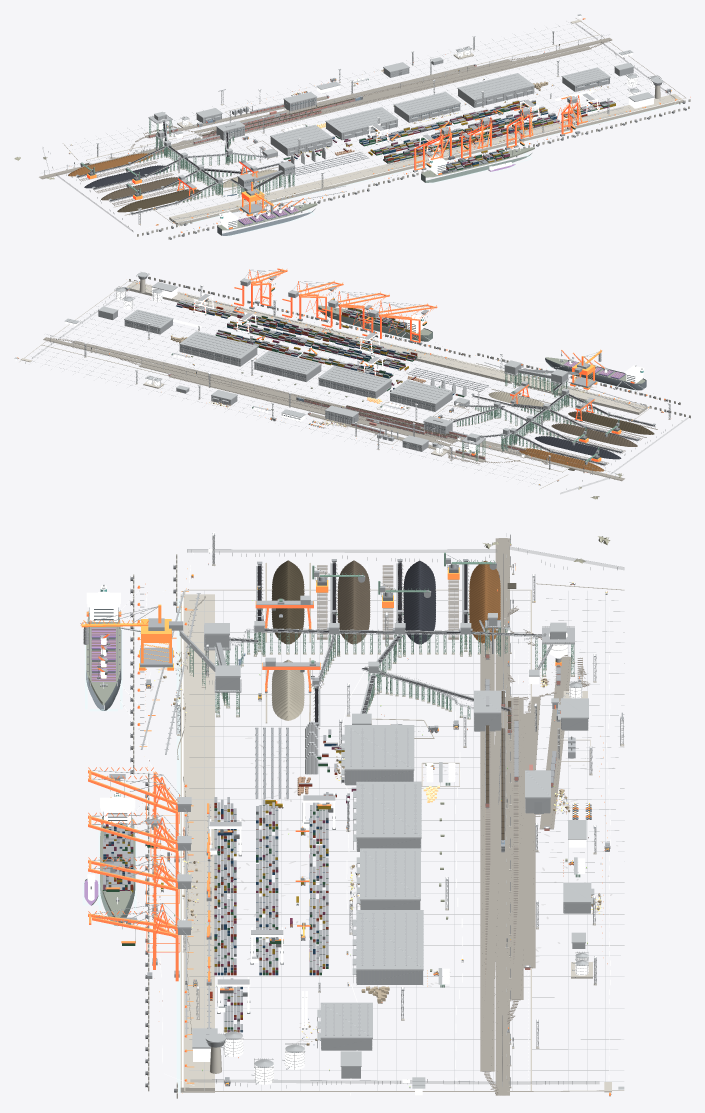
Rendered from portandrail.glb.
The picture shows the model from 3 angles, top to bottom: view 1: azimuth 30°, elevation 25°; view 2: azimuth 150°, elevation 25°; view 3: azimuth 270°, elevation 25°; orthographic projection. The views are drawn at different scales.
Parts seen in each view (by area): view 1: structure/roof, structure/concrete, galv/galv, structure/mat_8a8275_111, structure/steelD, structure/clad, fleet/hiVis, structure/seam, structure/white, structure/green, fleet/steelD, structure/mat_796f63_102 (+19 smaller); view 2: structure/roof, structure/concrete, galv/galv, structure/mat_8a8275_111, structure/steelD, structure/clad, fleet/hiVis, structure/seam, structure/green, structure/white, fleet/steelD, structure/textured_ffffff_23 (+22 smaller); view 3: structure/roof, structure/mat_8a8275_111, structure/concrete, structure/steelD, galv/galv, structure/seam, structure/clad, fleet/hiVis, structure/white, structure/green, structure/mat_796f63_102, fence/mesh (+20 smaller).
Part boxes in pixels (x1,y1,x2,y2): structure/roof: (135, 14, 662, 181); structure/concrete: (44, 18, 686, 225); galv/galv: (44, 31, 663, 224); structure/mat_8a8275_111: (39, 37, 611, 179); structure/steelD: (51, 31, 686, 239); structure/clad: (154, 60, 661, 189); fleet/hiVis: (206, 83, 587, 229); structure/seam: (70, 23, 678, 219); structure/white: (69, 15, 682, 231); structure/green: (139, 119, 294, 202); fleet/steelD: (133, 104, 580, 227); structure/mat_796f63_102: (79, 39, 611, 205); structure/roof: (14, 272, 568, 454); structure/concrete: (19, 279, 670, 489); galv/galv: (50, 272, 670, 478); structure/mat_8a8275_111: (43, 337, 624, 481); structure/steelD: (47, 279, 682, 474); structure/clad: (98, 276, 578, 451); fleet/hiVis: (186, 268, 634, 427); structure/seam: (33, 284, 644, 484); structure/green: (457, 371, 608, 460); structure/white: (14, 281, 687, 482); fleet/steelD: (232, 300, 614, 459); structure/textured_ffffff_23: (178, 302, 464, 396); structure/roof: (192, 613, 624, 1089); structure/mat_8a8275_111: (480, 538, 572, 1095); structure/concrete: (177, 543, 624, 1092); structure/steelD: (103, 533, 622, 1092); galv/galv: (120, 533, 623, 1086); structure/seam: (182, 591, 624, 1090); structure/clad: (179, 618, 590, 1078); fleet/hiVis: (86, 611, 591, 981); structure/white: (120, 532, 623, 1095); structure/green: (189, 608, 574, 718); structure/mat_796f63_102: (317, 565, 589, 1095); fence/mesh: (187, 547, 624, 1084).
Size of the model in its own units: 1205 by 75.27 by 497.
106 materials, 32 textured.
